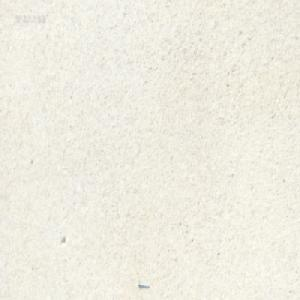Nail: (137, 279, 149, 288)
